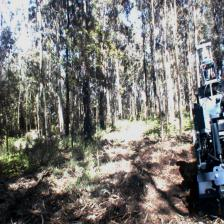trunktrack_idkeyframe: (82, 89, 92, 135)
